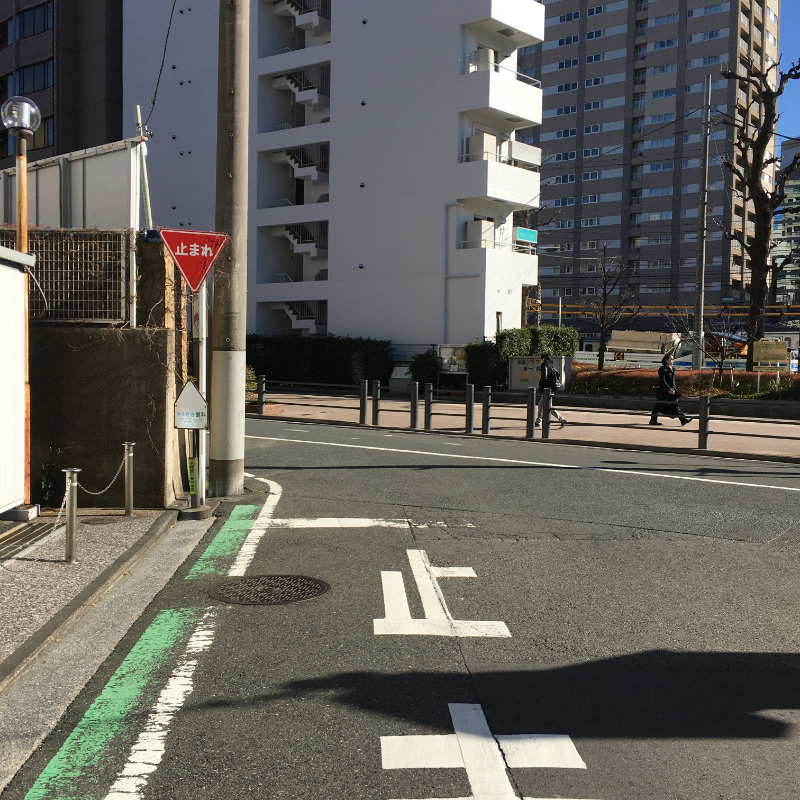STOP: (156, 226, 231, 292)
